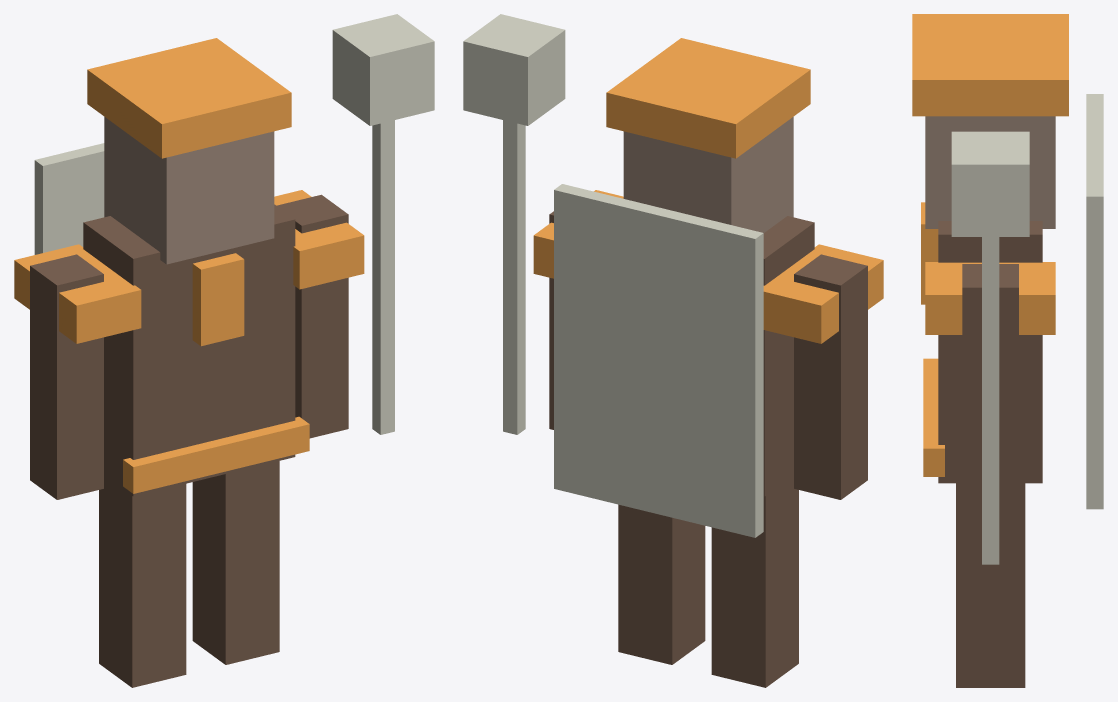
File: 15_luma_starfall_medic_of_forkkeeper.glb
3 views of the same model, side by side, from view 1: azimuth 30°, elevation 25°; view 2: azimuth 150°, elevation 25°; view 3: azimuth 270°, elevation 25° (orthographic). The views are drawn at different scales.
Visible parts, largest first — view 1: Luma Starfall, Medic of Forkkeeper; view 2: Luma Starfall, Medic of Forkkeeper; view 3: Luma Starfall, Medic of Forkkeeper.
Part boxes in pixels (x1,y1,x2,y2): Luma Starfall, Medic of Forkkeeper: (14, 14, 434, 687); Luma Starfall, Medic of Forkkeeper: (463, 14, 883, 687); Luma Starfall, Medic of Forkkeeper: (912, 14, 1103, 687).
Size of the model in its own units: 1.11 by 1.64 by 0.4721.
